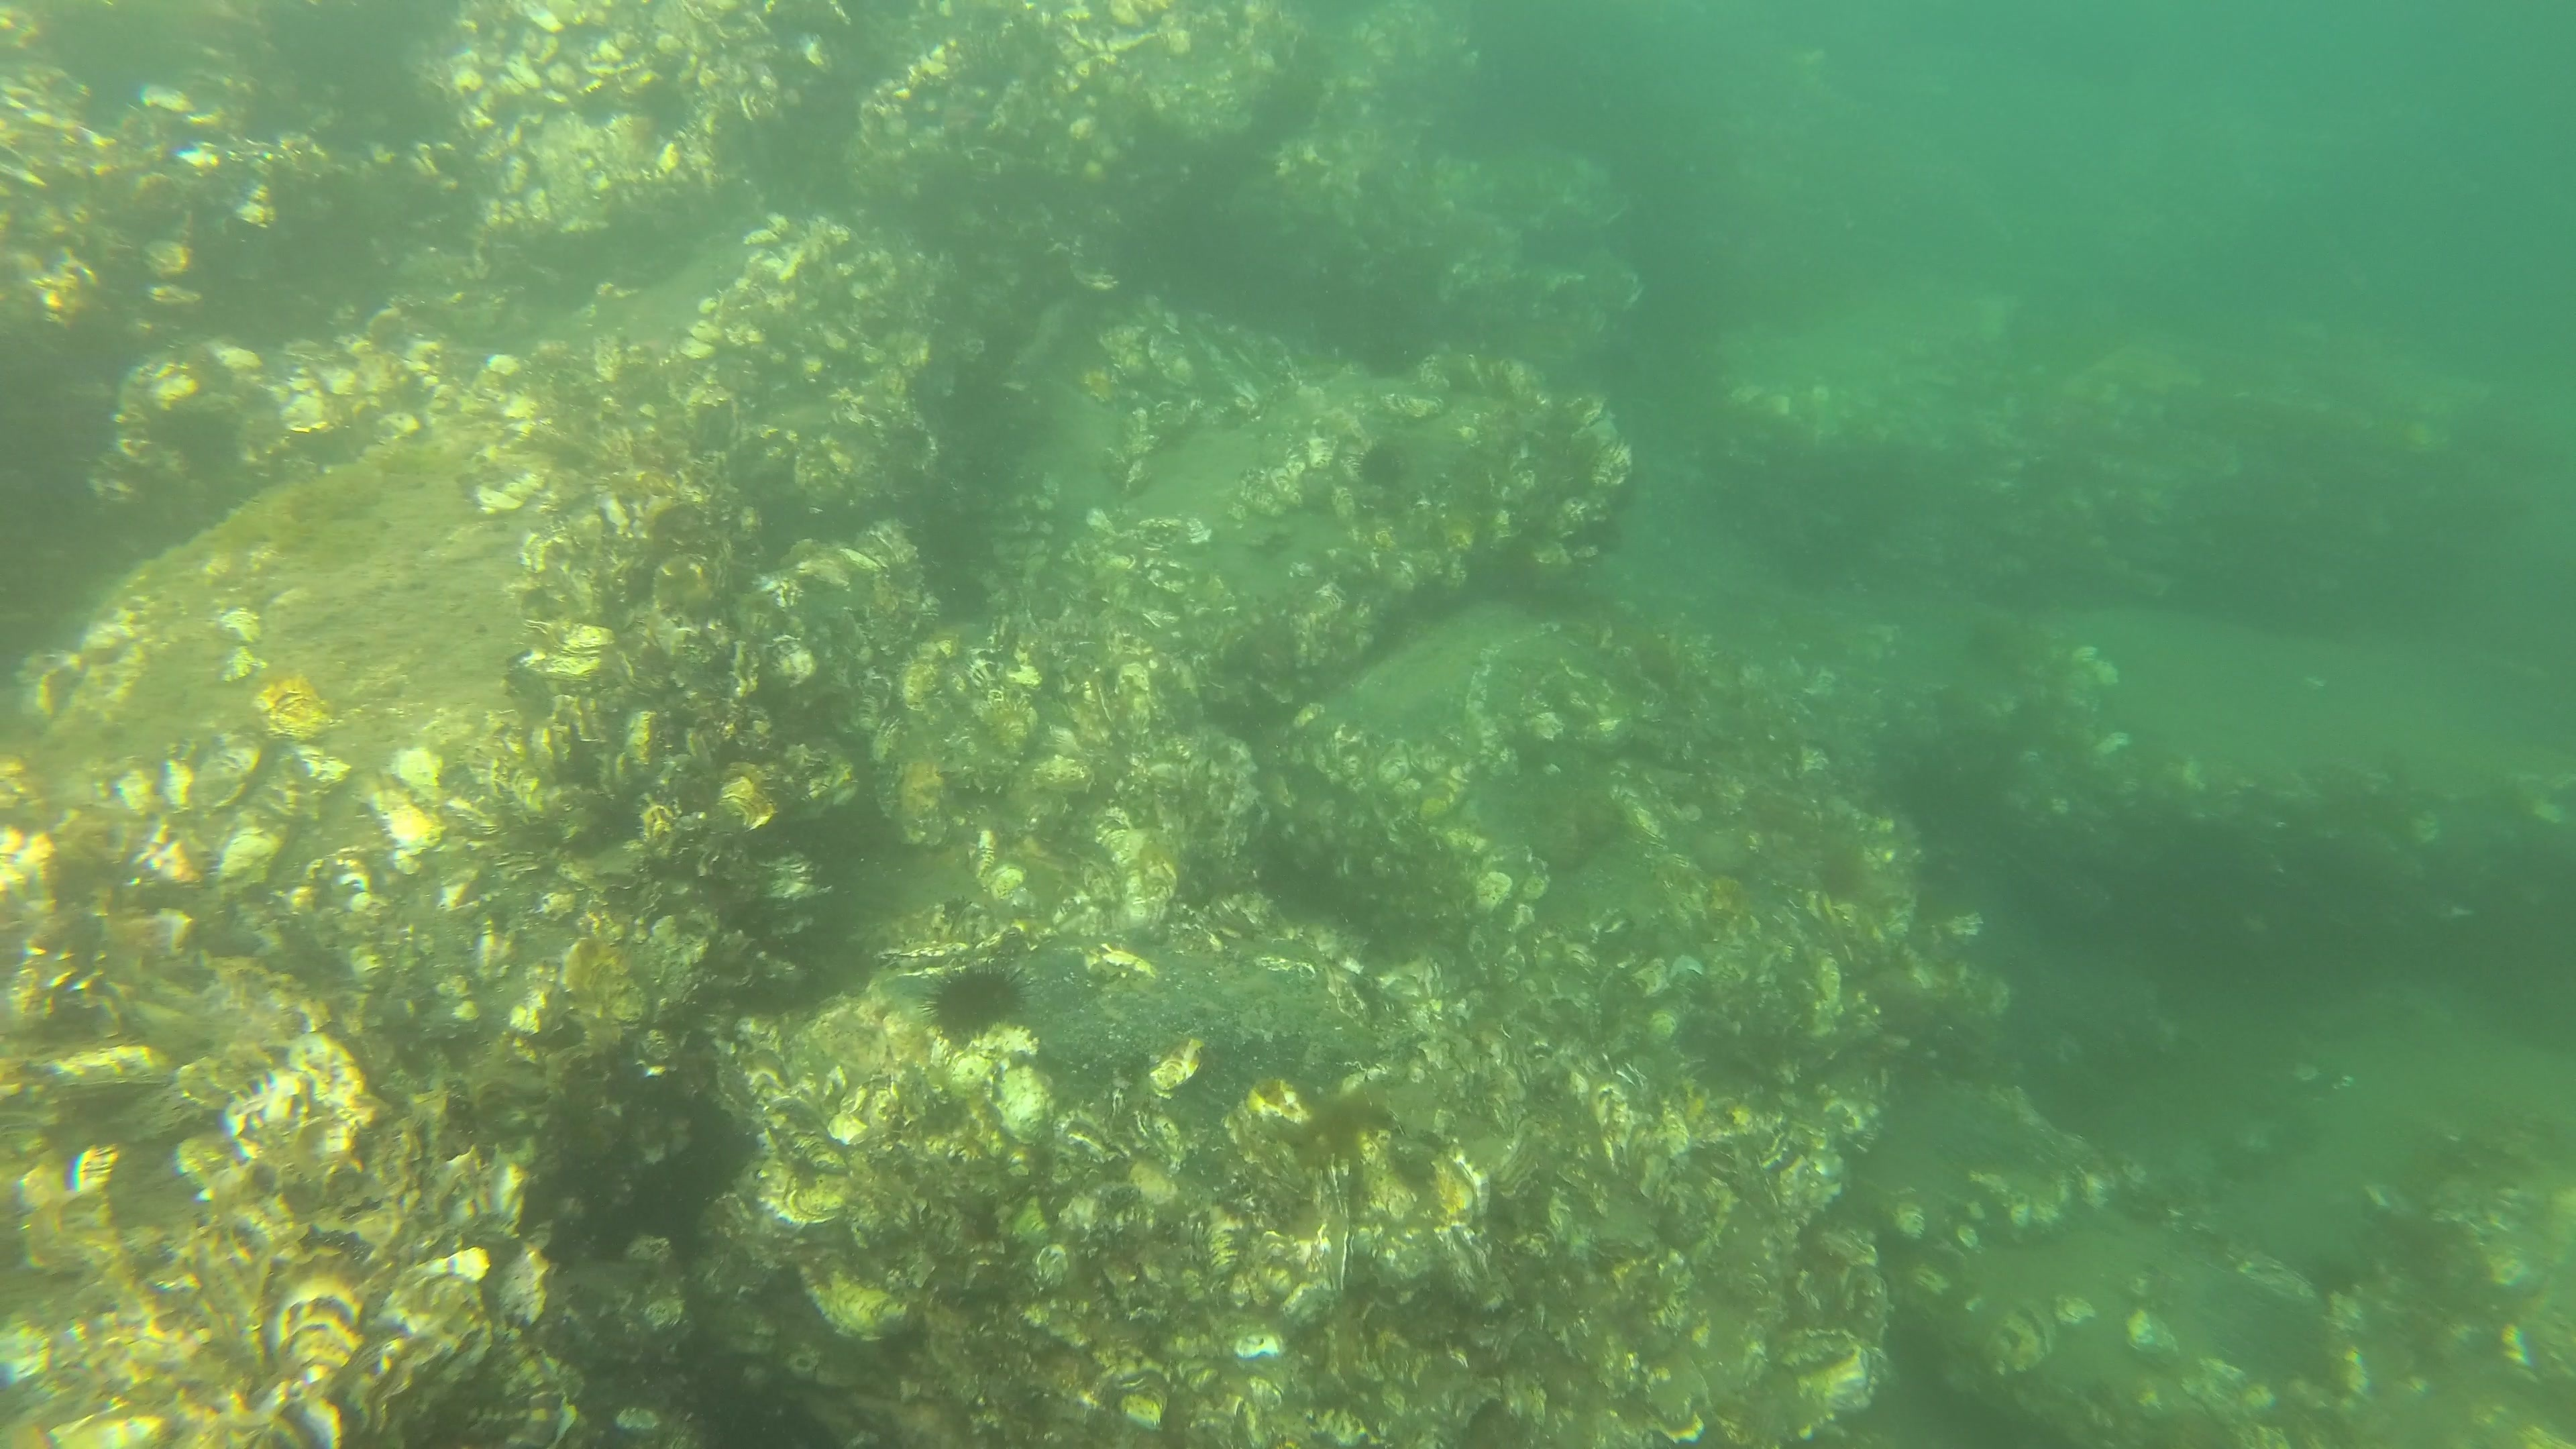echinus: (916, 964, 1028, 1044), (577, 81, 630, 131), (640, 83, 692, 133), (1359, 442, 1405, 494)
